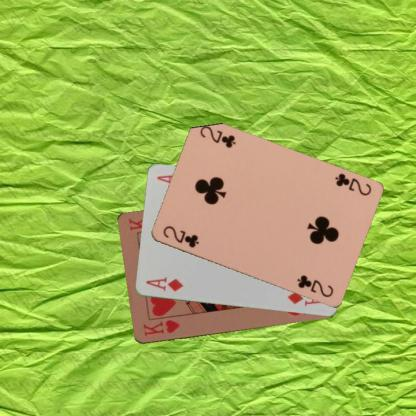2c: (160, 223, 200, 250), (332, 170, 372, 197)
Ad: (143, 274, 184, 293)
Kh: (140, 318, 181, 338)
